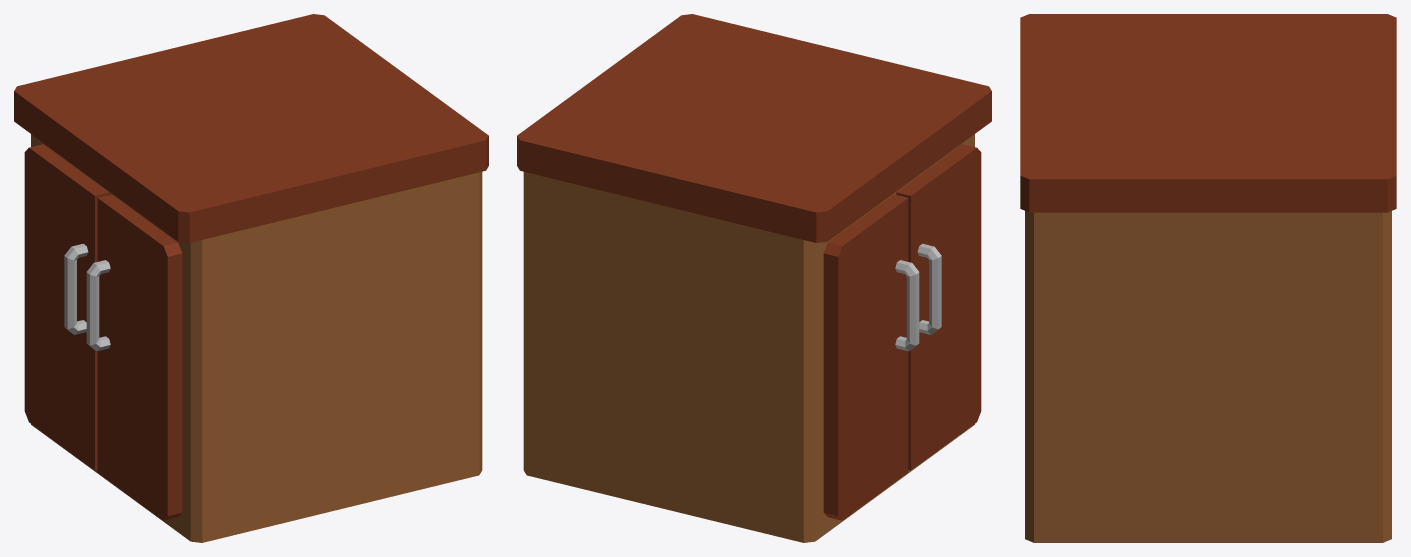
File: Clear_Counter.fbx
The picture shows the model from 3 angles, left to right: view 1: azimuth 30°, elevation 25°; view 2: azimuth 150°, elevation 25°; view 3: azimuth 270°, elevation 25°; orthographic projection. The views are drawn at different scales.
Visible parts, largest first — view 1: Counter_Base, Counter_Top, Counter_Doors, Counter_Handles; view 2: Counter_Base, Counter_Top, Counter_Doors, Counter_Handles; view 3: Counter_Base, Counter_Top.
Part boxes in pixels (left/top/right/bottom): Counter_Base: left=31, top=134, right=482, bottom=542; Counter_Top: left=14, top=14, right=488, bottom=242; Counter_Doors: left=24, top=144, right=182, bottom=520; Counter_Handles: left=64, top=243, right=110, bottom=351; Counter_Base: left=523, top=134, right=974, bottom=542; Counter_Top: left=517, top=14, right=991, bottom=242; Counter_Doors: left=823, top=144, right=981, bottom=520; Counter_Handles: left=895, top=243, right=941, bottom=351; Counter_Base: left=1025, top=211, right=1391, bottom=542; Counter_Top: left=1020, top=14, right=1396, bottom=212.
Bounding box in the file's own units: 1.13 × 1.1 × 1.02.
